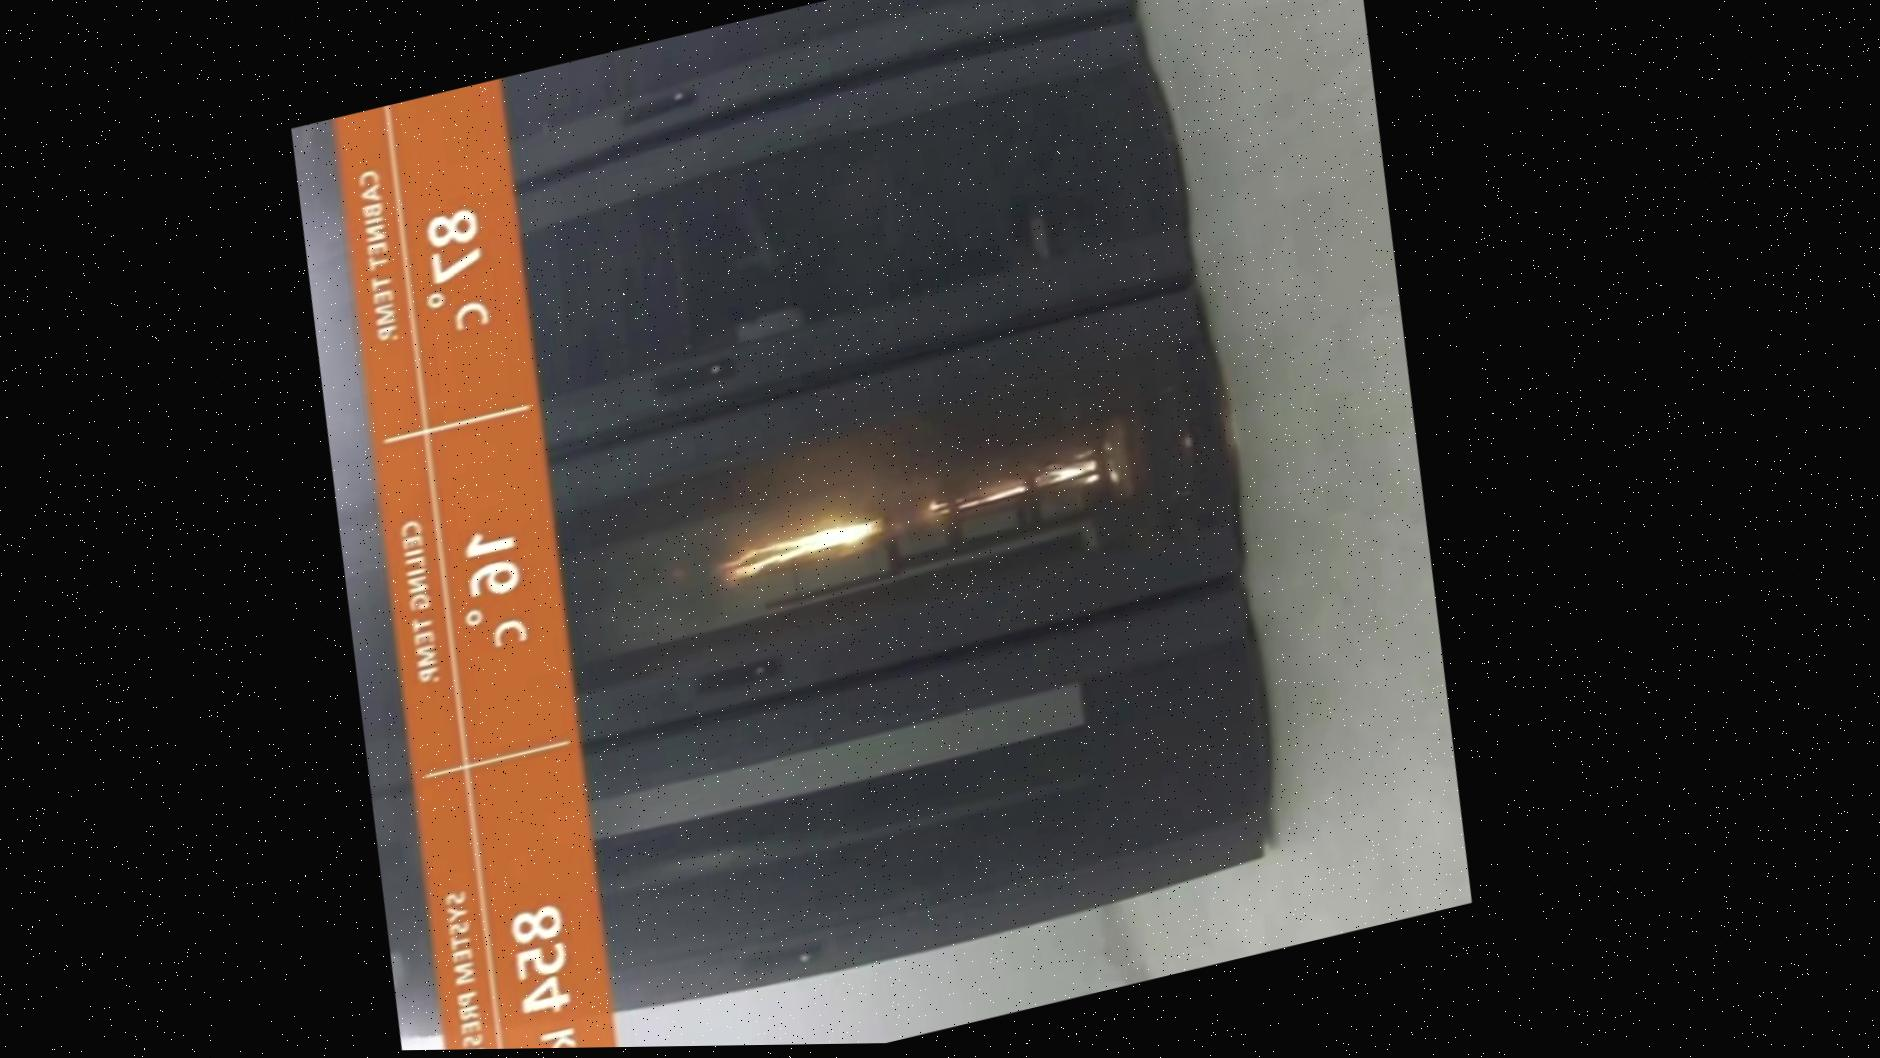fire: (693, 345, 1171, 593)
